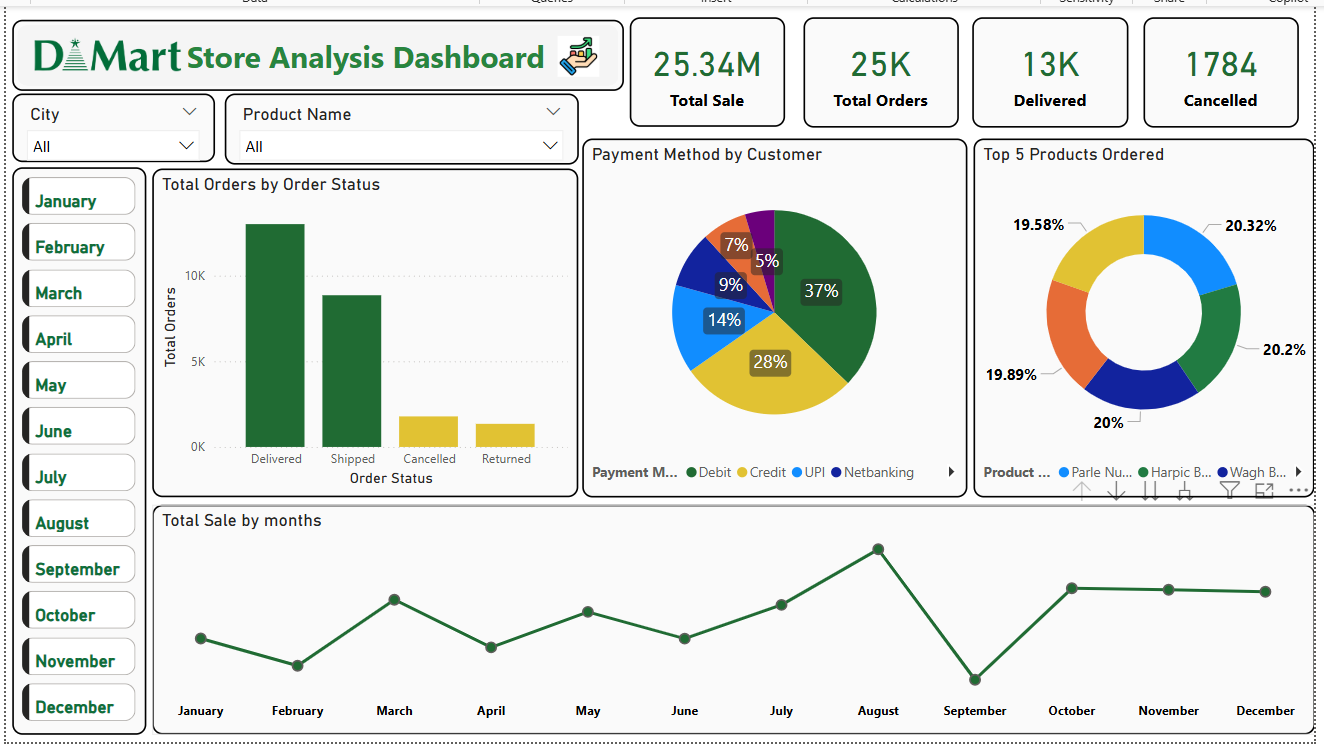

This screenshot's page, from the dashboard's own definition file:
{"tool":"powerbi","page":{"name":"Page 1","canvas":[1280,720],"ordinal":0},"visuals":[{"type":"shape","box":[6,13.3,598.4,70],"z":0},{"type":"image","box":[491,24.1,137.5,49.5],"z":1000},{"type":"advancedSlicerVisual","fields":{"Values":["Table1.Order Date.Variation.Date Hierarchy.Month"]},"box":[6,158,131.5,555],"z":2000},{"type":"slicer","fields":{"Values":["Table1.City"]},"box":[6.1,85.6,198.1,67.3],"z":3000},{"type":"lineChart","title":"Total Sale by months","fields":{"Category":["Table1.Order Date.Variation.Date Hierarchy.Month","Table1.Order Date.Variation.Date Hierarchy.Day"],"Y":["Table1.Total Sales"]},"box":[143.1,487.9,1137.2,225],"z":4000},{"type":"card","fields":{"Values":["Table1.Total Sales"]},"box":[610.5,10.9,152,107.4],"z":5000},{"type":"card","fields":{"Values":["Table1.Total Orders"]},"box":[780.2,11,151.6,107.6],"z":6000},{"type":"card","fields":{"Values":["Table1.Delivered"]},"box":[945.2,11,152.9,107.6],"z":7000},{"type":"card","fields":{"Values":["Table1.Canceled"]},"box":[1112.8,11,151.6,107.6],"z":8000},{"type":"pieChart","title":"Payment Method by Customer","fields":{"Category":["Table1.Payment Method"],"Y":["Table1.Total Orders"]},"box":[563.7,129.6,376.6,351],"z":9000},{"type":"image","box":[22.9,10.9,153.2,73.6],"z":10000},{"type":"clusteredColumnChart","fields":{"Category":["Table1.Order Status"],"Y":["Table1.Total Orders"]},"box":[143.1,159,417,321.6],"z":11000},{"type":"slicer","fields":{"Values":["Table1.Product Name"]},"box":[214,85.6,346.1,69.7],"z":12000},{"type":"donutChart","title":"Top 5 Products Ordered","fields":{"Y":["Table1.Total Orders"],"Category":["Table1.Product Name"]},"box":[946.5,129.6,333.8,351],"z":13000}]}

Visuals, with their boxes in screenshot pixels (x1, y1, x2, y2):
shape: rect(10, 17, 620, 88)
image: rect(504, 28, 645, 79)
advancedSlicerVisual - Table1.Order Date.Variation.Date Hierarchy.Month: rect(10, 165, 144, 731)
slicer - Table1.City: rect(10, 91, 212, 159)
"Total Sale by months" lineChart: rect(149, 501, 1309, 731)
card - Table1.Total Sales: rect(626, 15, 781, 124)
card - Table1.Total Orders: rect(799, 15, 954, 124)
card - Table1.Delivered: rect(968, 15, 1124, 124)
card - Table1.Canceled: rect(1139, 15, 1293, 124)
"Payment Method by Customer" pieChart: rect(578, 136, 963, 494)
image: rect(27, 15, 183, 90)
clusteredColumnChart - Table1.Order Status x Table1.Total Orders: rect(149, 166, 575, 494)
slicer - Table1.Product Name: rect(222, 91, 575, 162)
"Top 5 Products Ordered" donutChart: rect(969, 136, 1309, 494)
